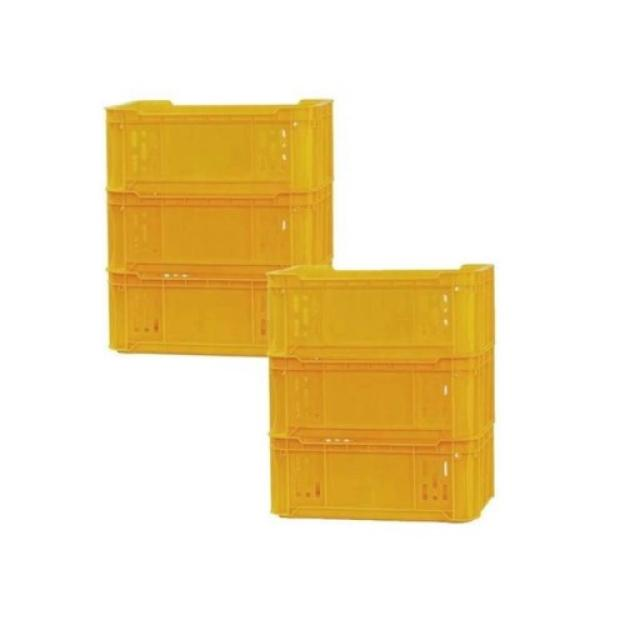basket: (267, 265, 495, 523), (108, 101, 332, 356)
